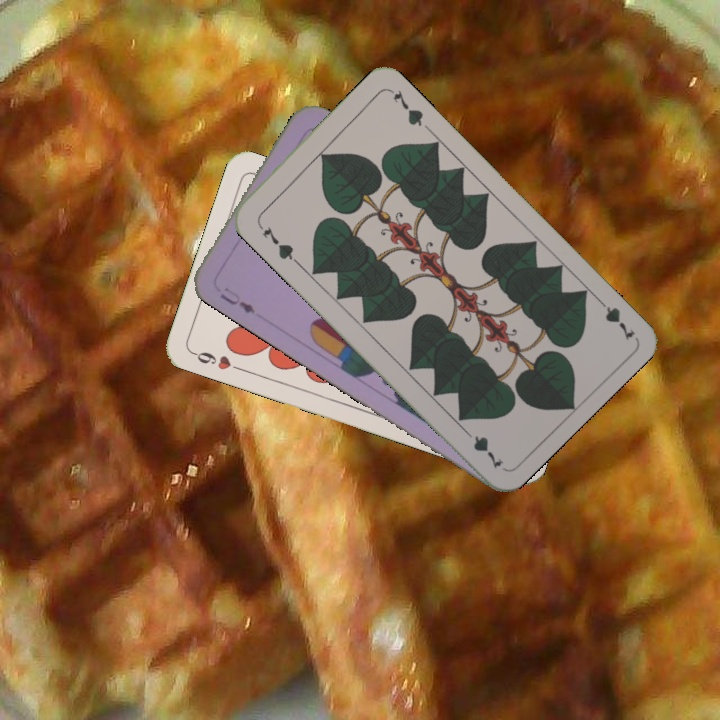EU: (216, 284, 258, 316)
G7: (591, 292, 638, 343), (253, 218, 299, 265)
H9: (188, 347, 246, 374)
